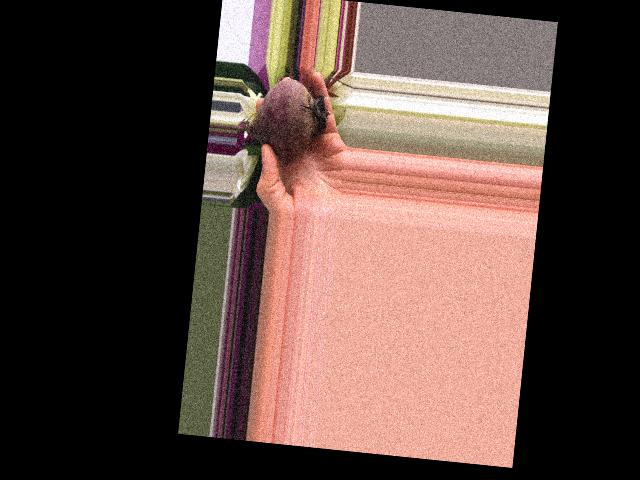beet: (235, 73, 333, 162)
